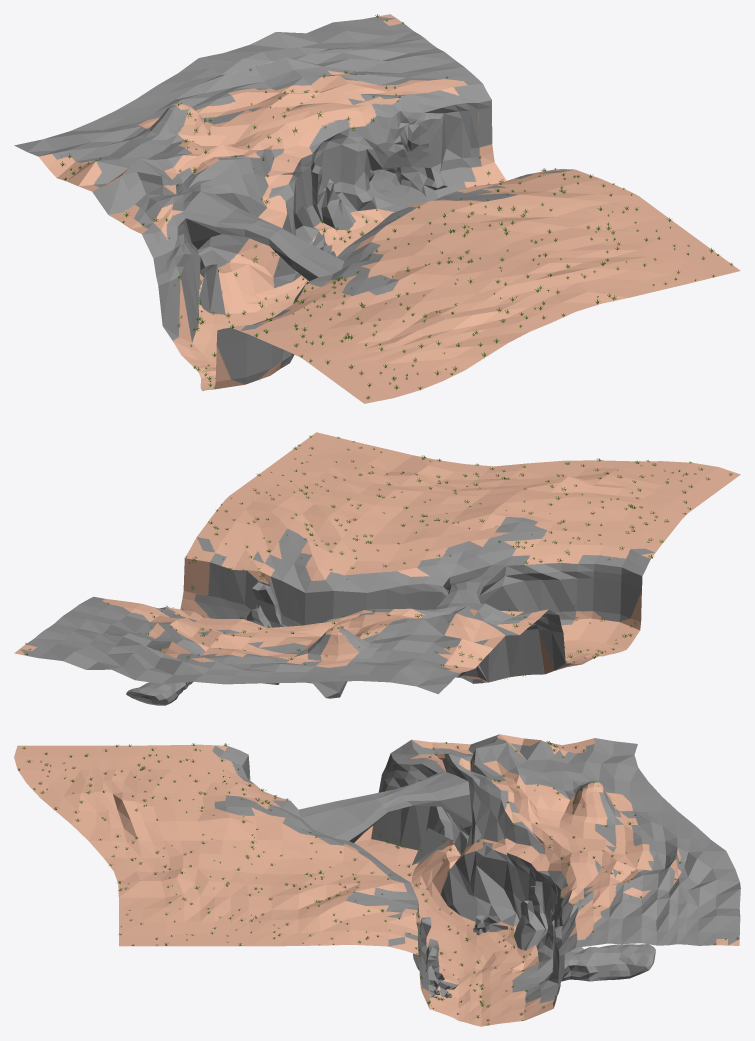
File: ground.fbx
3 renders of one model, top to bottom at view 1: azimuth 30°, elevation 25°; view 2: azimuth 150°, elevation 25°; view 3: azimuth 270°, elevation 25°, orthographic. The views are drawn at different scales.
Visible parts, largest first — view 1: ground; view 2: ground; view 3: ground.
Boxes of the visible parts, left/top/right/bottom form: ground: left=14, top=14, right=740, bottom=403; ground: left=14, top=432, right=740, bottom=705; ground: left=14, top=734, right=740, bottom=1026.
Size of the model in its own units: 3403 by 1056 by 5353.
Materials: 3 (1 with a texture image).
